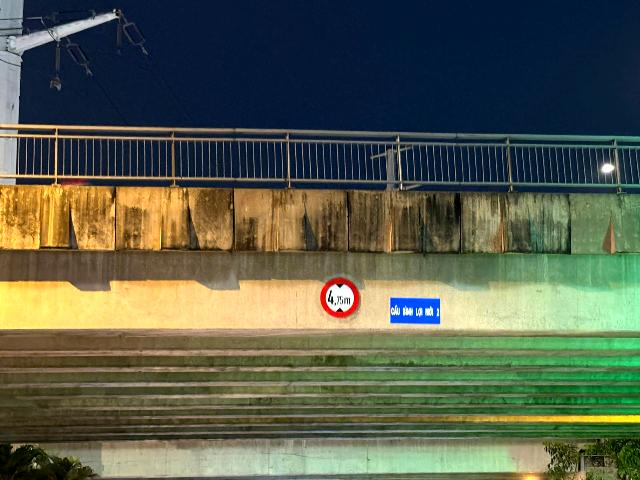han-che-chieu-cao: (321, 278, 359, 318)
